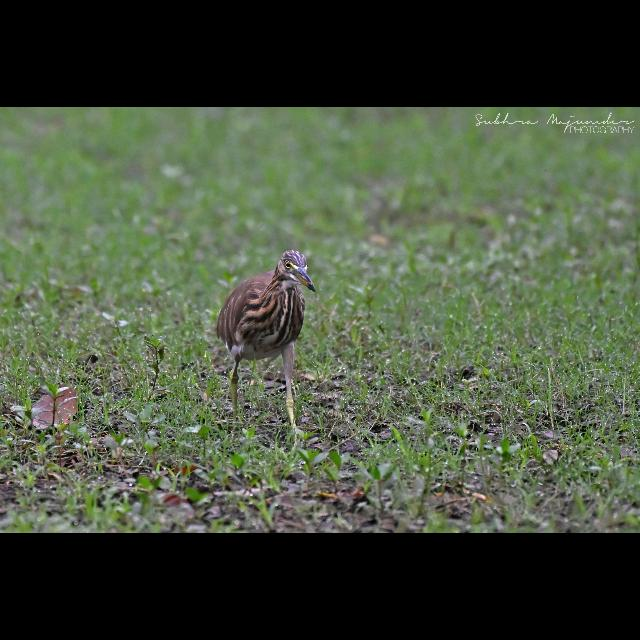heron: (202, 248, 320, 440)
